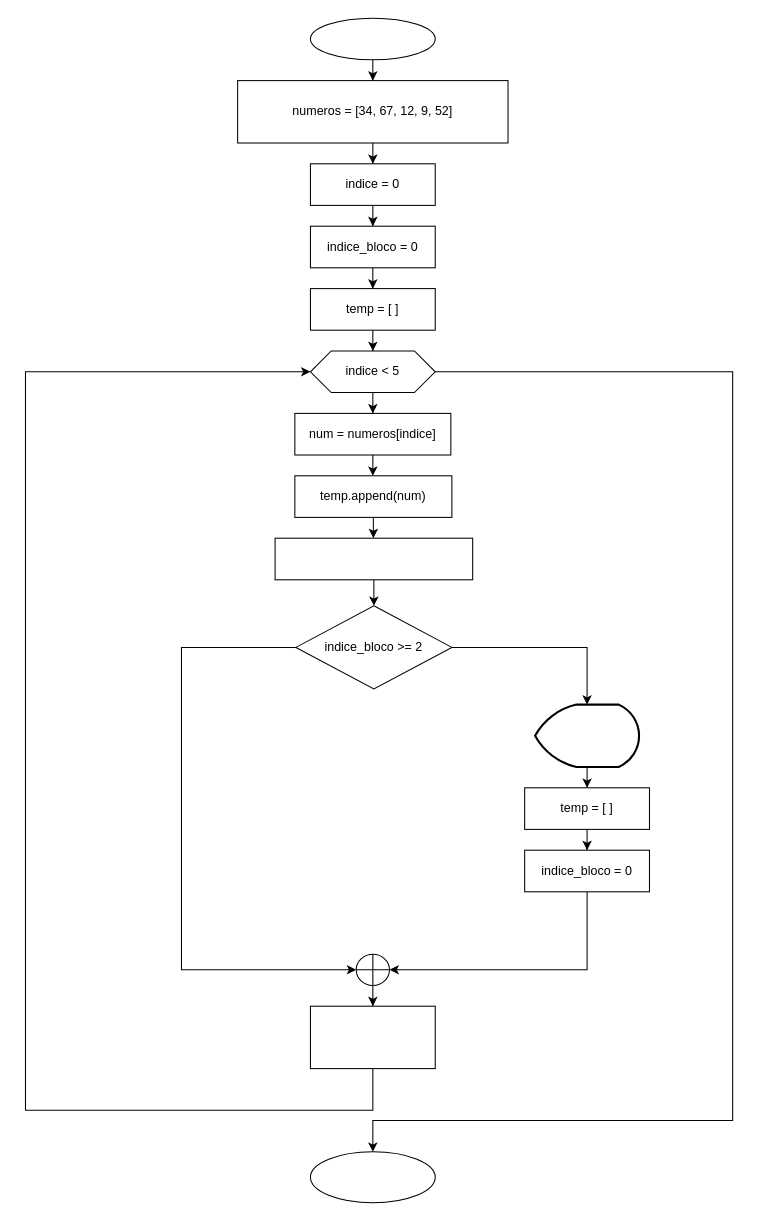
Some shapes in this 759 by 1221 pixel diagram are drawn without their labels. The shapes that lost their labels are listed below. From the top down, each one's centre as x and y in pixels, then its label:
[372,38]: Inicio
[373,558]: indice_bloco = indice_bloco + 1
[587,735]: temp
[372,1037]: indice = indice + 1
[372,1177]: Fim
